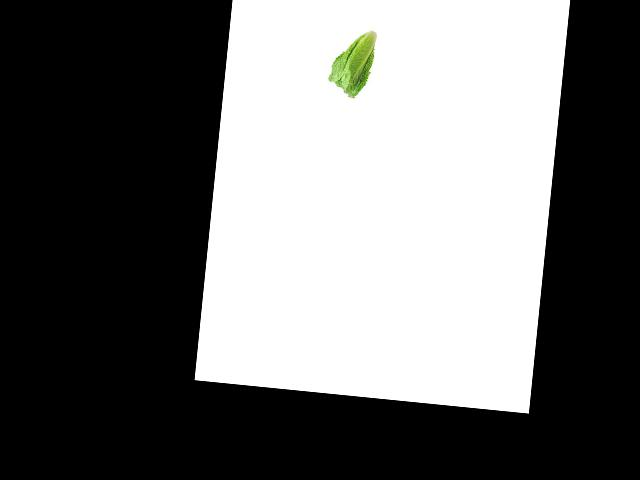lettuce: (326, 20, 378, 100)
